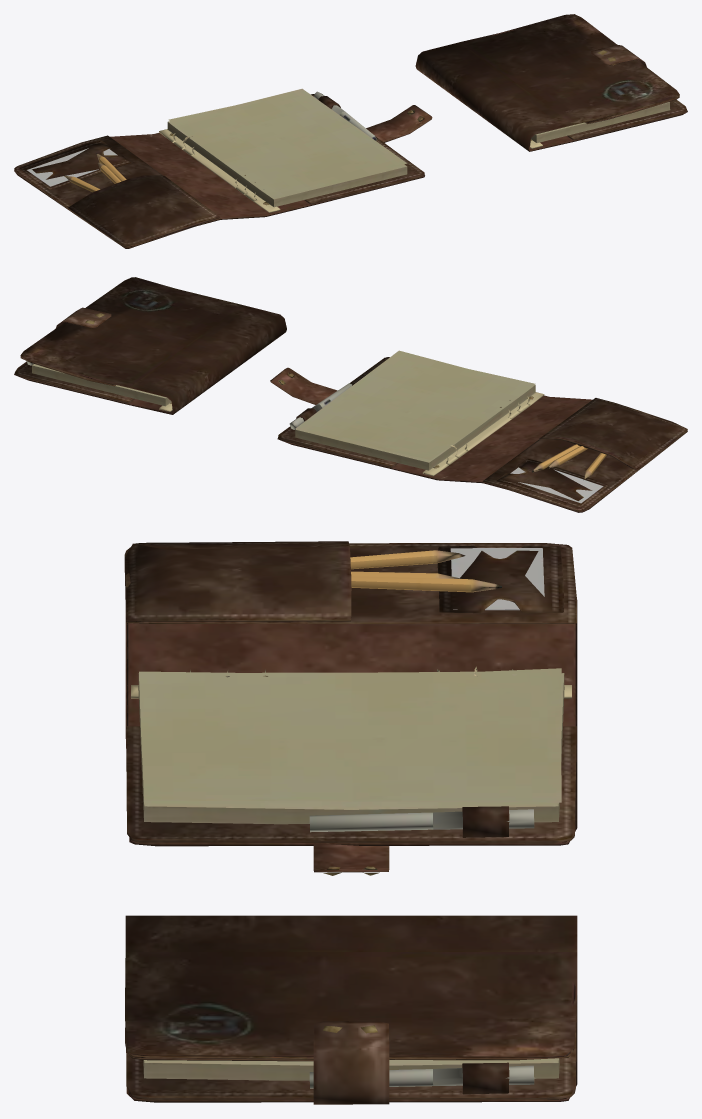
The model's file is binder_notebook.glb.
3 views of the same model, one above another, from view 1: azimuth 30°, elevation 25°; view 2: azimuth 150°, elevation 25°; view 3: azimuth 270°, elevation 25° (orthographic). The views are drawn at different scales.
Parts seen in each view (by area): view 1: binder_notebook; view 2: binder_notebook; view 3: binder_notebook.
Boxes of the visible parts, x1,y1,x2,y2 form: binder_notebook: [14, 14, 687, 248]; binder_notebook: [14, 277, 687, 512]; binder_notebook: [124, 541, 577, 1104].
Bounding box in the file's own units: 0.5836 × 0.0248 × 0.1995.
1 material, 1 textured.
